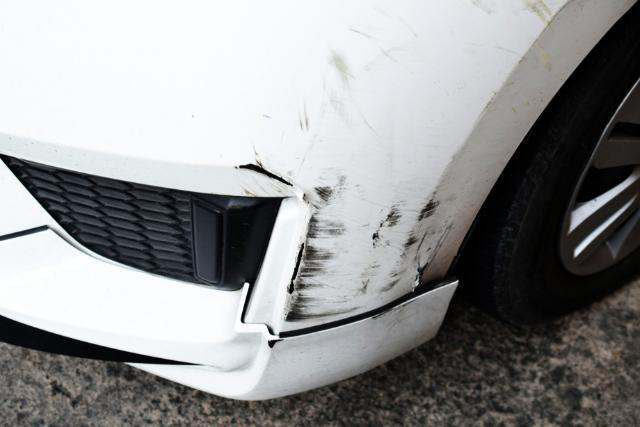Bumper: (218, 89, 456, 382)
